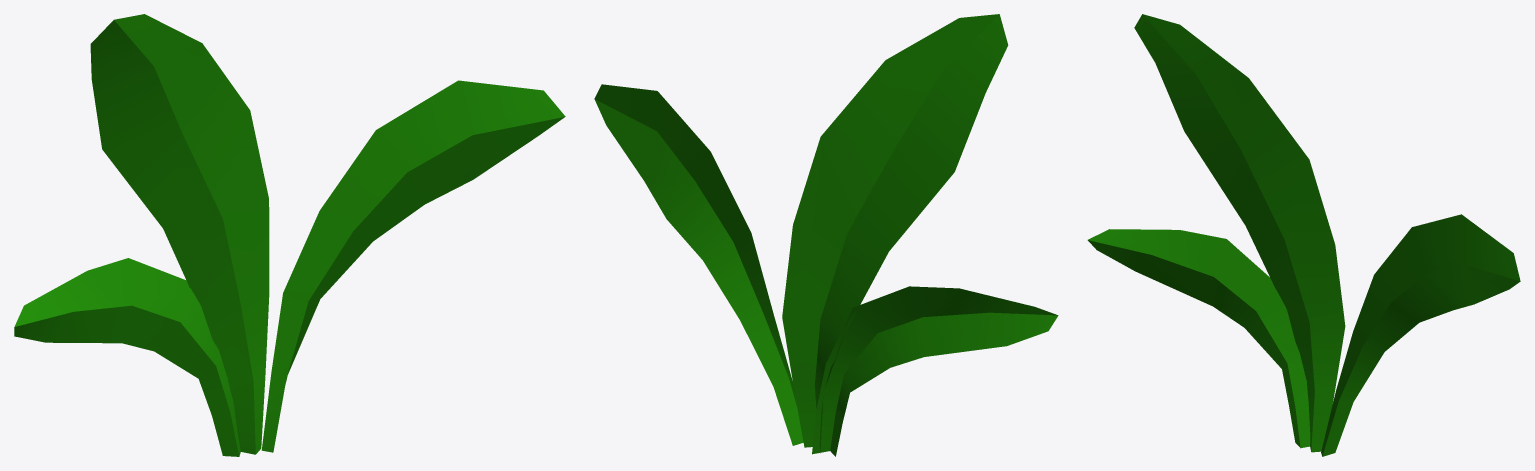
Rendered from Fat Grass Short 3.fbx.
3 renders of one model, left to right at view 1: azimuth 30°, elevation 25°; view 2: azimuth 150°, elevation 25°; view 3: azimuth 330°, elevation 25°, orthographic. The views are drawn at different scales.
Visible parts, largest first — view 1: Fat_Grass_Short_3; view 2: Fat_Grass_Short_3; view 3: Fat_Grass_Short_3.
Part boxes in pixels (left/top/right/bottom): Fat_Grass_Short_3: left=14, top=14, right=565, bottom=456; Fat_Grass_Short_3: left=594, top=14, right=1058, bottom=456; Fat_Grass_Short_3: left=1087, top=14, right=1520, bottom=456.
Size of the model in its own units: 0.4259 by 0.381 by 0.0627.
